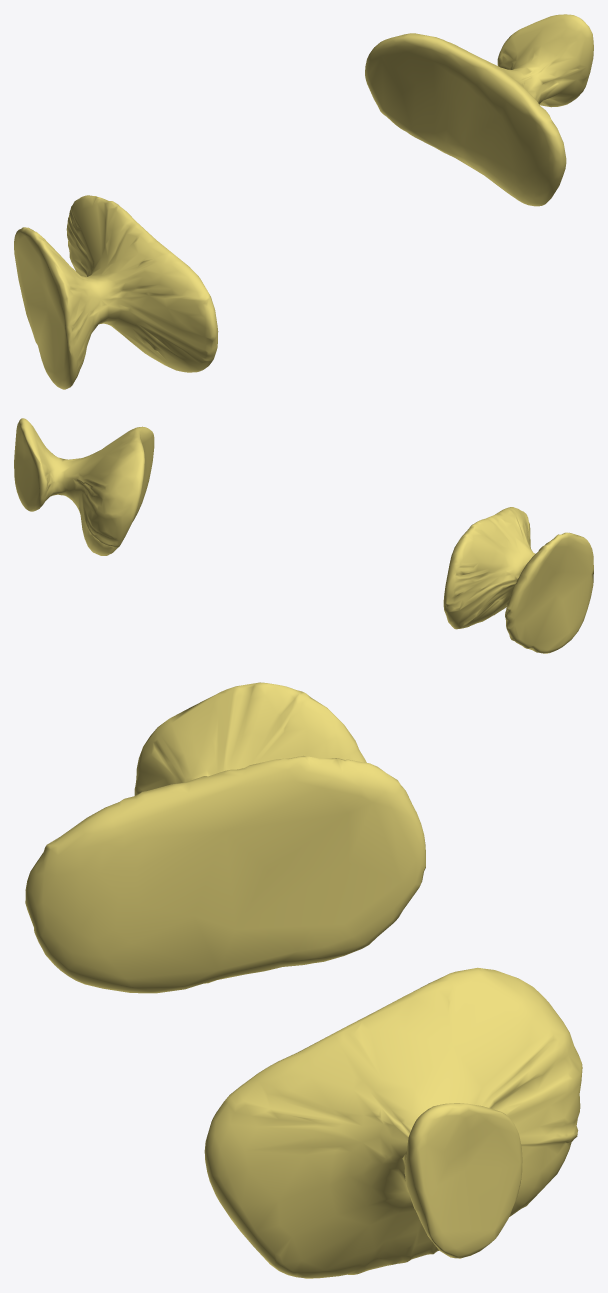
The model's file is suspensory-ligament-of-eyeball-l.glb.
3 views of the same model, one above another, from view 1: azimuth 30°, elevation 25°; view 2: azimuth 150°, elevation 25°; view 3: azimuth 270°, elevation 25° (orthographic). The views are drawn at different scales.
Parts seen in each view (by area): view 1: Suspensory ligament of eyeball.l; view 2: Suspensory ligament of eyeball.l; view 3: Suspensory ligament of eyeball.l.
Boxes of the visible parts, bbox=[...] form: Suspensory ligament of eyeball.l: bbox=[14, 14, 593, 389]; Suspensory ligament of eyeball.l: bbox=[14, 418, 593, 653]; Suspensory ligament of eyeball.l: bbox=[25, 682, 582, 1278].
Size of the model in its own units: 0.0387 by 0.0116 by 0.0184.
